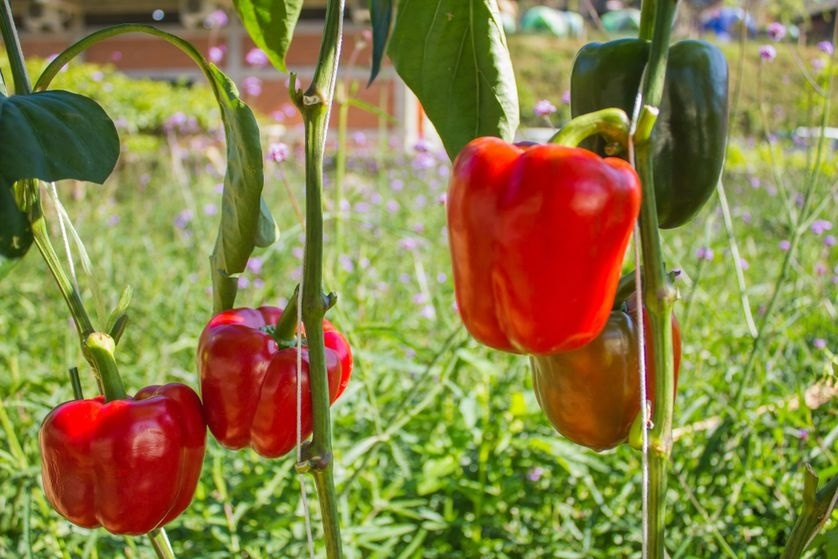fruit: (445, 132, 643, 355), (569, 37, 732, 231), (38, 382, 208, 537), (528, 288, 682, 453), (197, 305, 353, 460)
pedicle: (261, 321, 305, 347)
